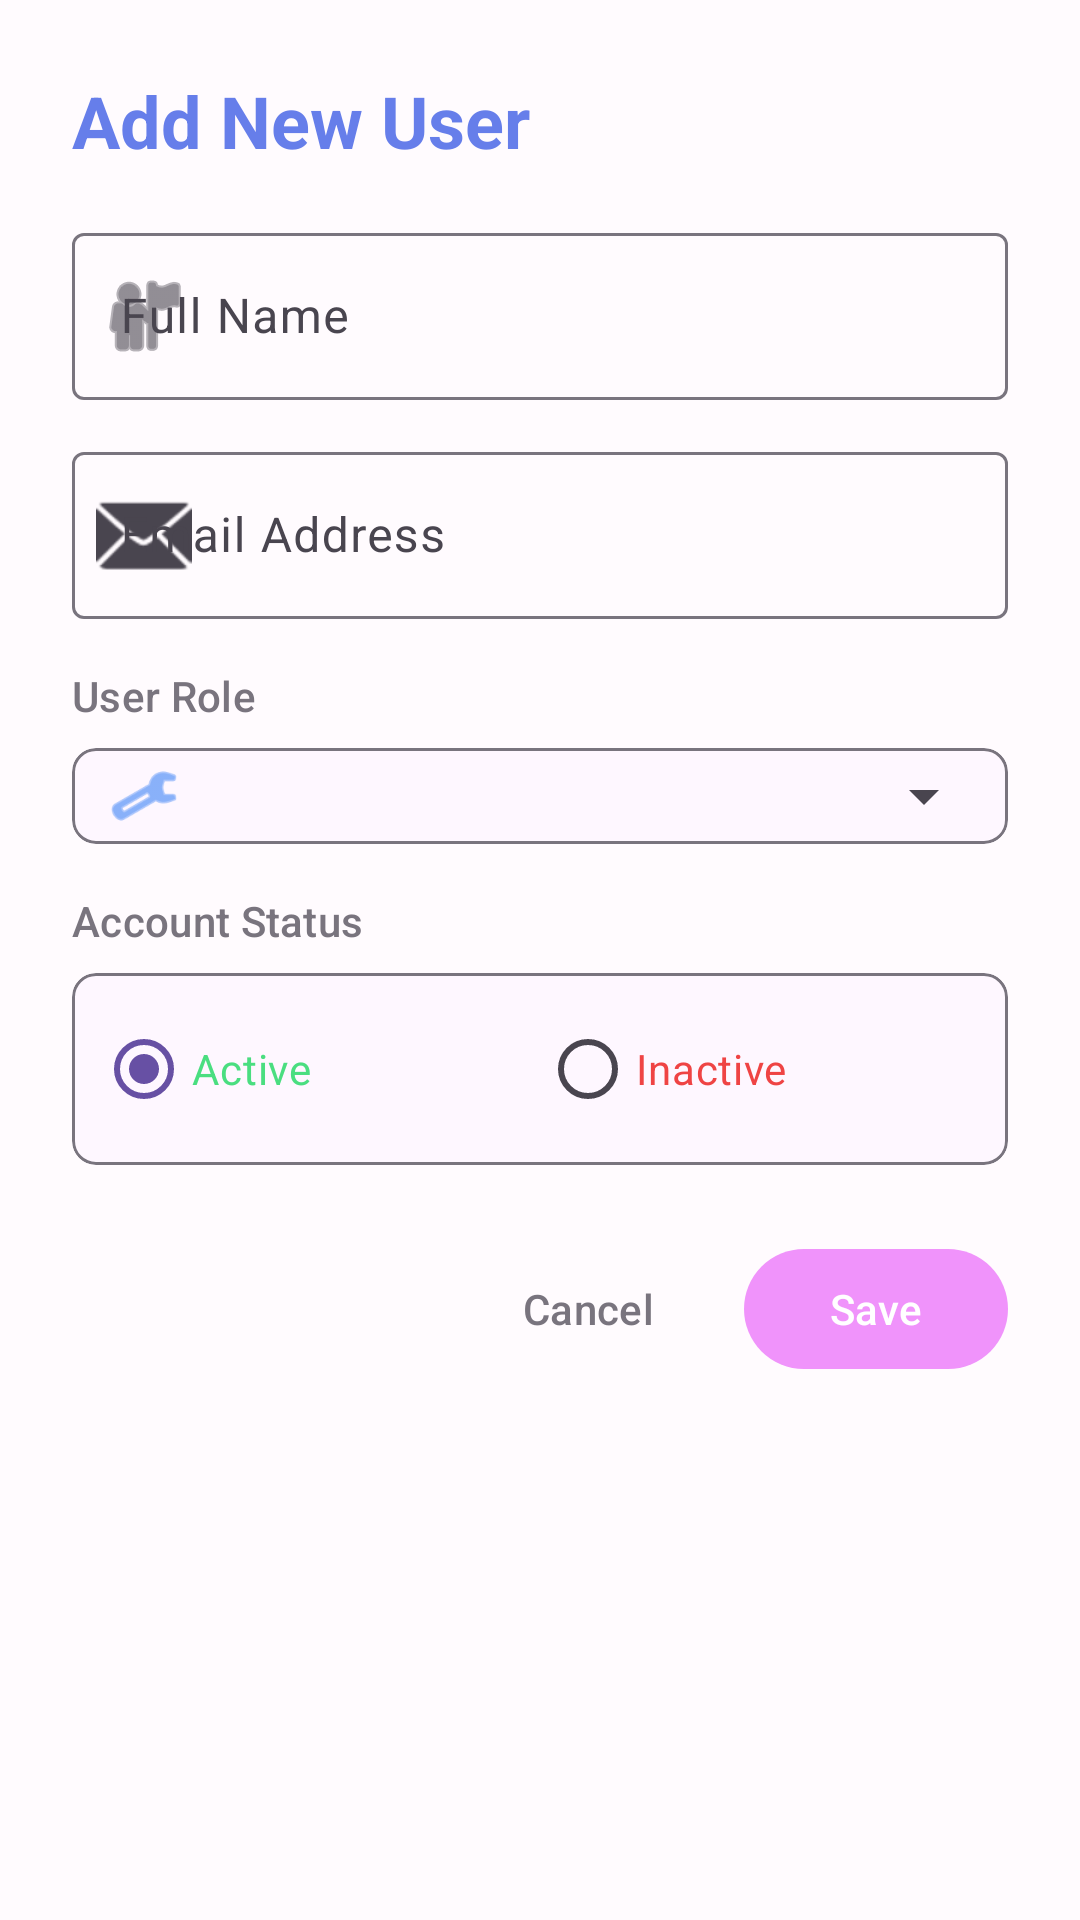

Screen size 1080×1920. Icon name, then its center in pixels as (x=x, y=y):
preferences: (x=144, y=796)
